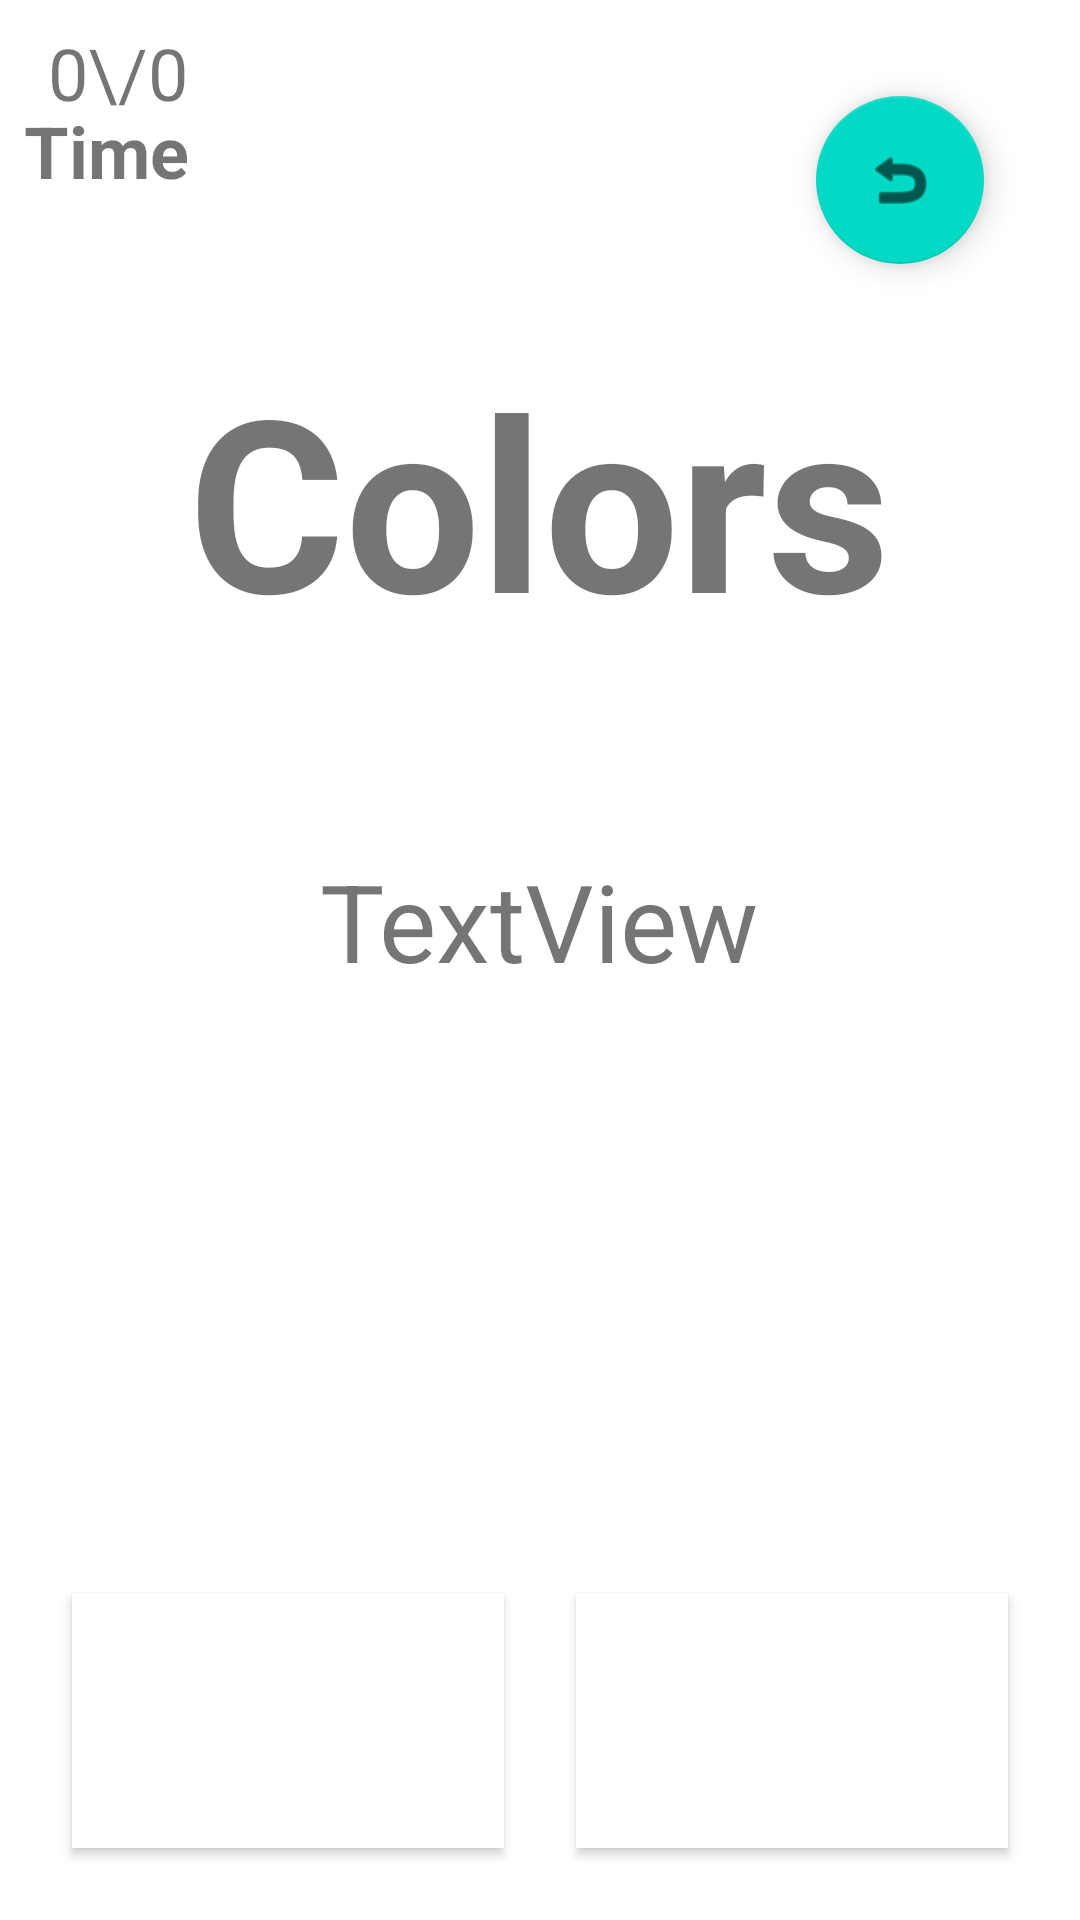

Screen size 1080px×1920px. Icon name, then its box in pixels as (x1, y1, x2, y2):
revert: (816, 96, 984, 264)
